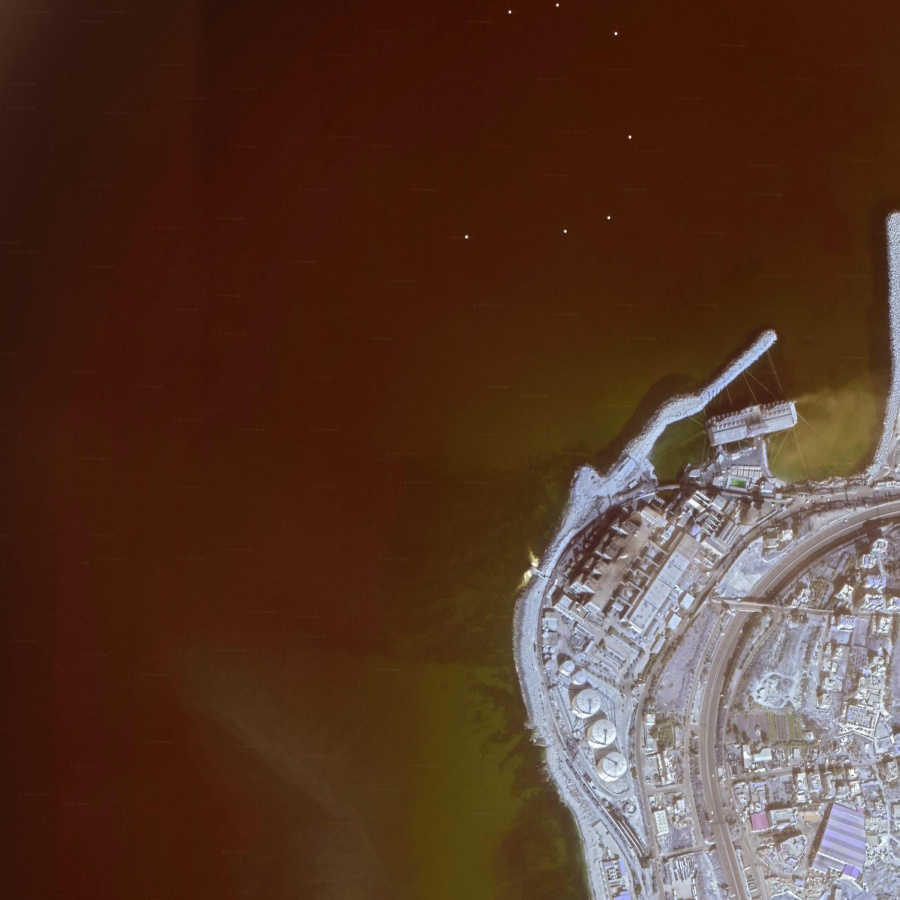PowerPlant: (505, 388, 801, 786)
